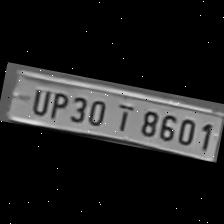0: (84, 94, 112, 127), (172, 113, 197, 146)
1: (194, 118, 216, 150)
3: (66, 91, 90, 124)
6: (154, 110, 178, 141)
8: (134, 104, 162, 138)
P: (45, 87, 69, 120)
T: (109, 99, 138, 132)
U: (25, 84, 52, 116)
